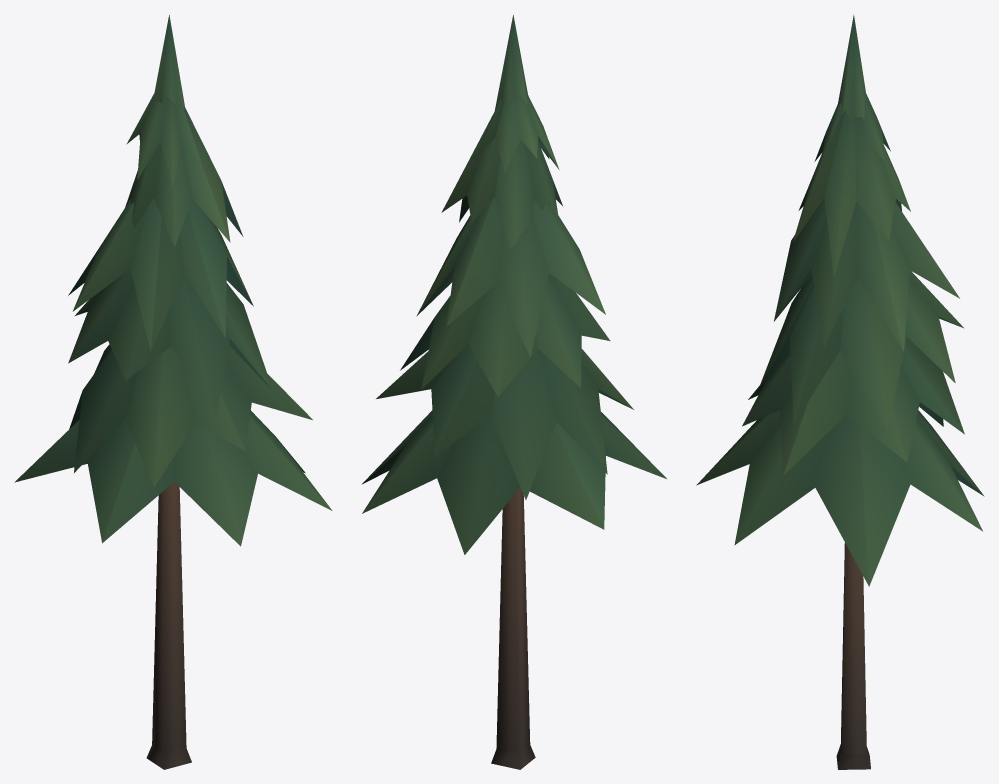
The model's file is pine_tall_a_lod1.glb.
The picture shows the model from 3 angles, left to right: view 1: azimuth 30°, elevation 25°; view 2: azimuth 150°, elevation 25°; view 3: azimuth 270°, elevation 25°; orthographic projection.
Visible parts, largest first — view 1: pine_tall_a_lod1; view 2: pine_tall_a_lod1; view 3: pine_tall_a_lod1.
Boxes of the visible parts, <box> form: pine_tall_a_lod1: <box>14,15,332,769</box>; pine_tall_a_lod1: <box>362,15,666,769</box>; pine_tall_a_lod1: <box>696,14,984,769</box>.
Bounding box in the file's own units: 7.13 × 19 × 6.64.
